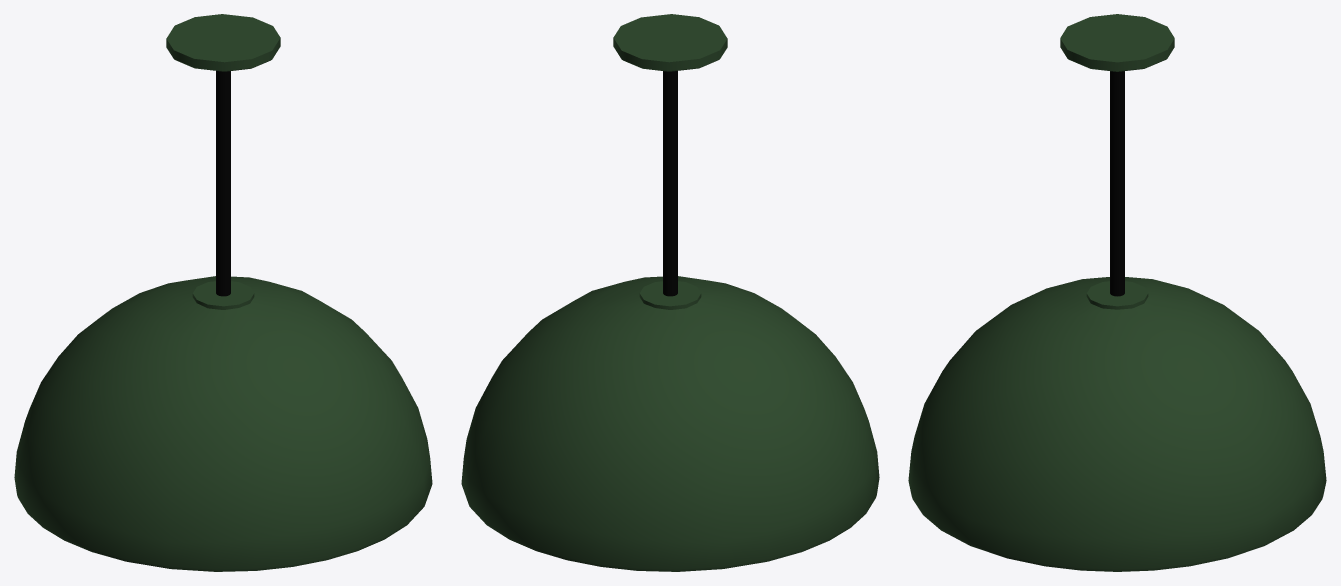
The model's file is GreenLight.fbx.
3 renders of one model, left to right at view 1: azimuth 30°, elevation 25°; view 2: azimuth 150°, elevation 25°; view 3: azimuth 270°, elevation 25°, orthographic.
Visible parts, largest first — view 1: Roundcube; view 2: Roundcube; view 3: Roundcube.
Boxes of the visible parts, x1,y1,x2,y2 form: Roundcube: (14,14,432,571); Roundcube: (461,14,879,571); Roundcube: (908,14,1326,571).
Bounding box in the file's own units: 99.8 × 128 × 99.8.
